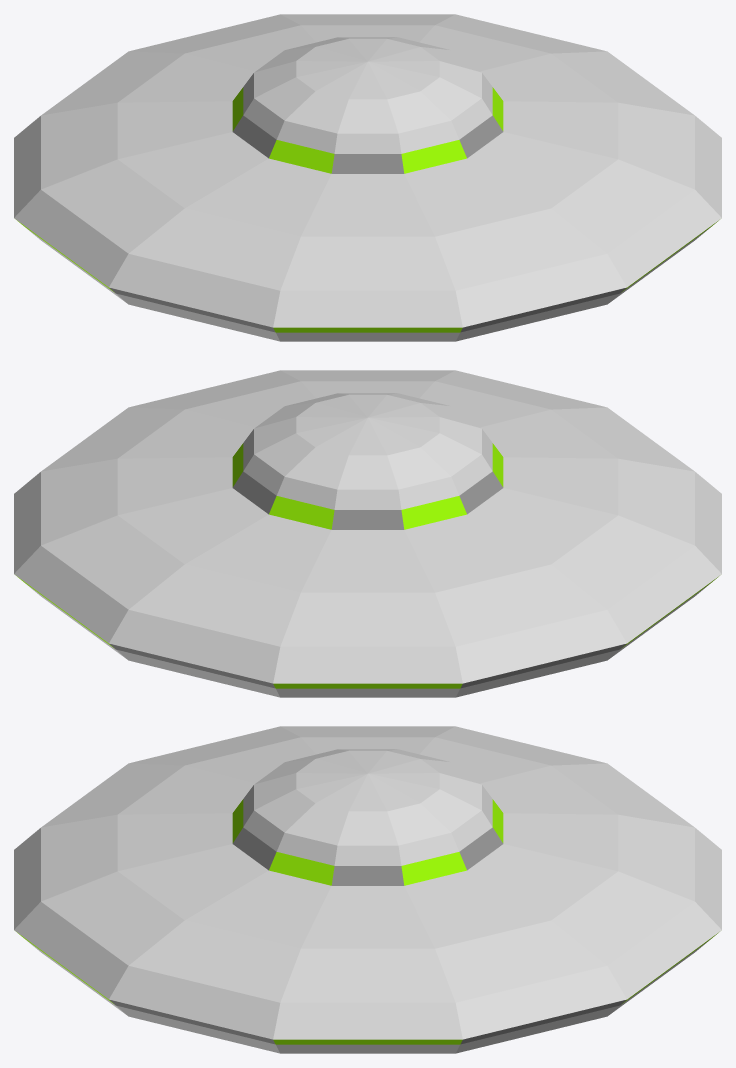
Rendered from Low_Poly_UFO_001.fbx.
3 renders of one model, top to bottom at view 1: azimuth 30°, elevation 25°; view 2: azimuth 150°, elevation 25°; view 3: azimuth 270°, elevation 25°, orthographic.
Parts seen in each view (by area): view 1: Low_Poly_UFO_001; view 2: Low_Poly_UFO_001; view 3: Low_Poly_UFO_001.
Part boxes in pixels (x1,y1,x2,y2): Low_Poly_UFO_001: (14,14,721,341); Low_Poly_UFO_001: (14,370,721,697); Low_Poly_UFO_001: (14,726,721,1053).
Bounding box in the file's own units: 580 × 177 × 580.
